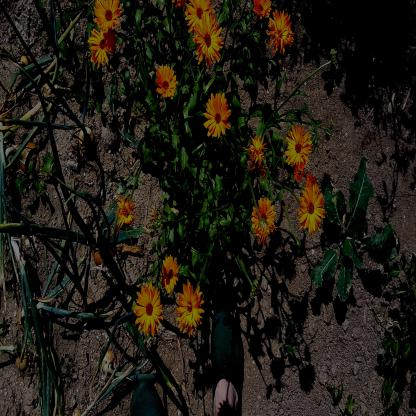marigold: (174, 277, 205, 338), (134, 280, 164, 339), (193, 10, 224, 66), (299, 181, 326, 236), (267, 7, 295, 57), (89, 22, 118, 68), (204, 91, 231, 139), (250, 196, 276, 244), (285, 126, 312, 167), (92, 0, 123, 31), (184, 0, 210, 36), (154, 63, 178, 100), (161, 252, 179, 295), (252, 0, 272, 20)
